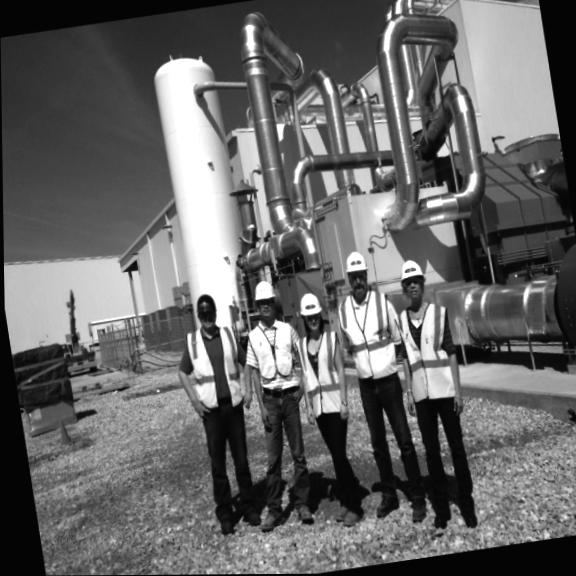safety_vest: (391, 300, 465, 409), (338, 288, 404, 385), (182, 323, 248, 412), (296, 330, 352, 422), (240, 320, 304, 391)
